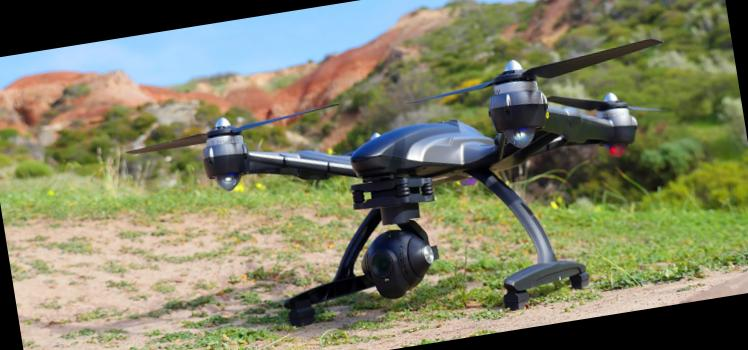drone: (126, 19, 659, 264)
